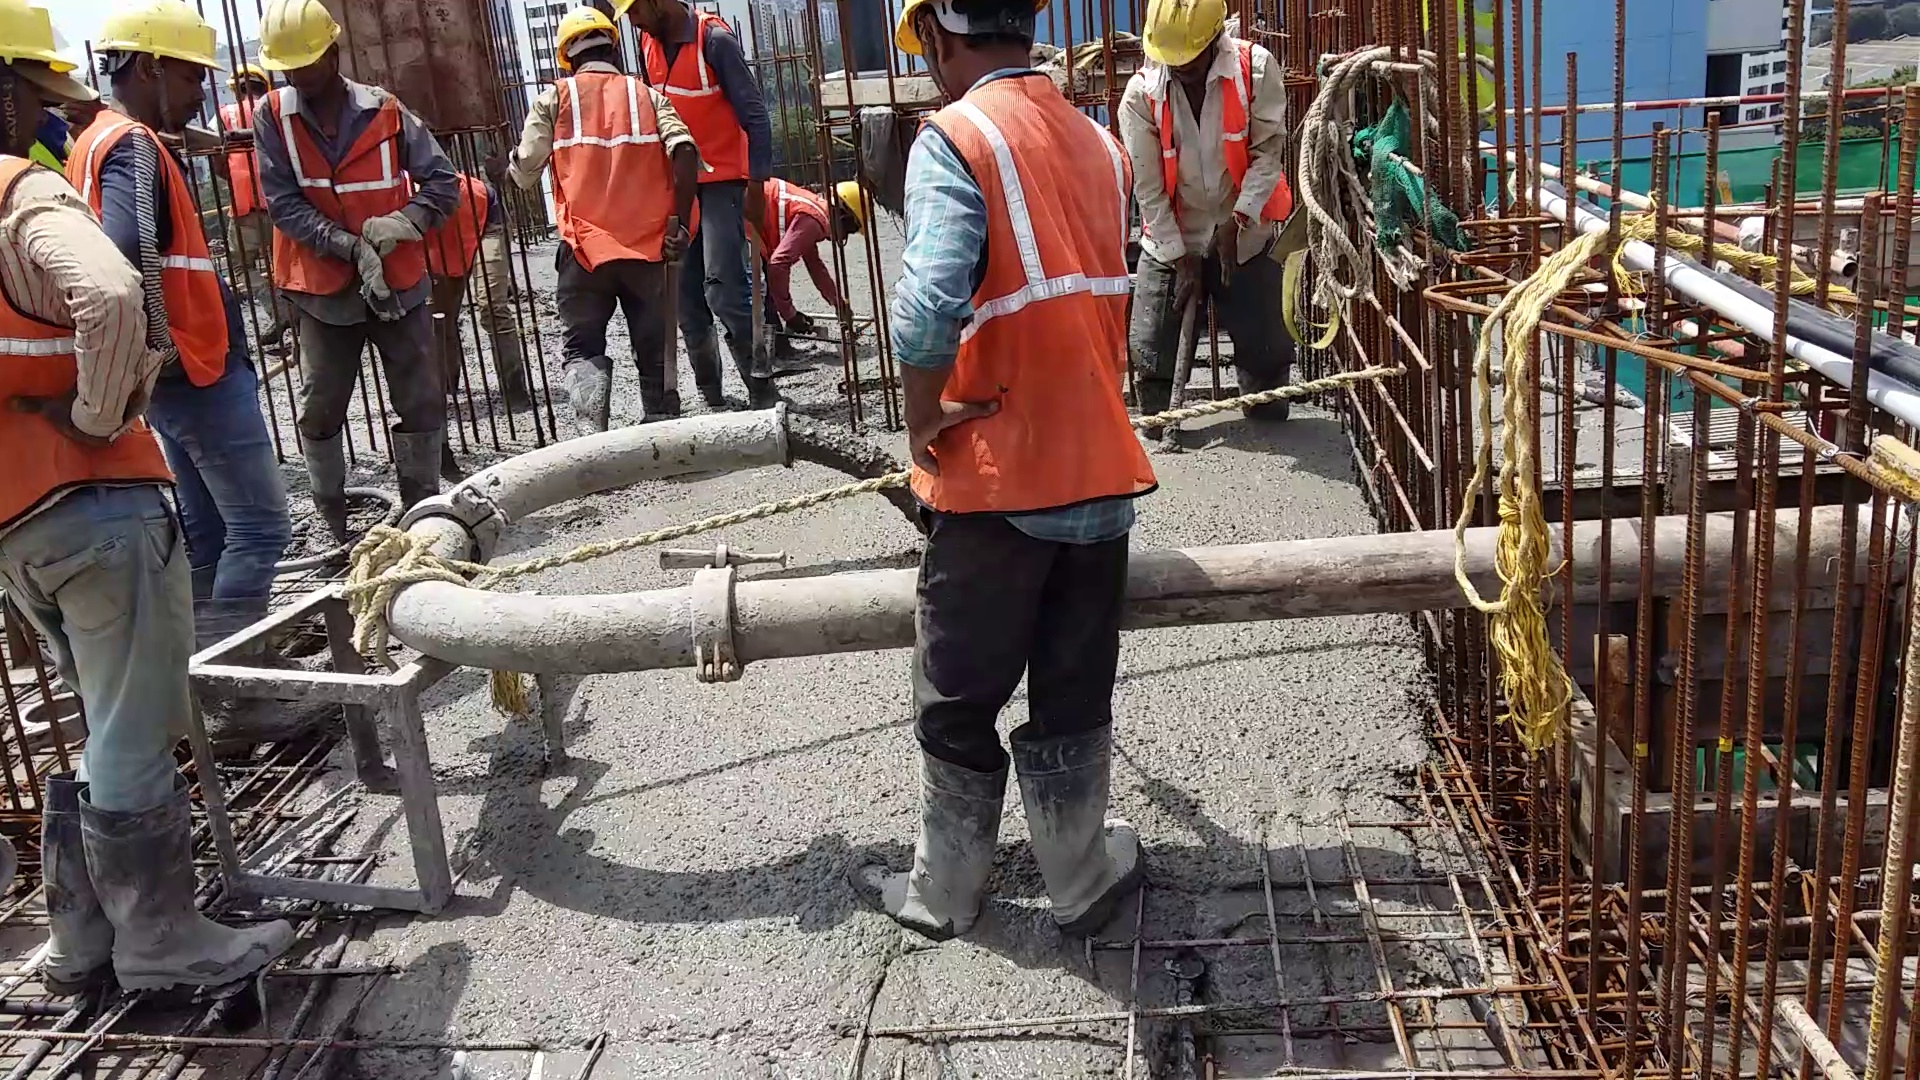SAFE: (905, 1, 1127, 512), (258, 3, 388, 313), (1124, 5, 1279, 256), (1, 3, 73, 522), (137, 9, 225, 368), (549, 5, 646, 268), (649, 1, 752, 202)
